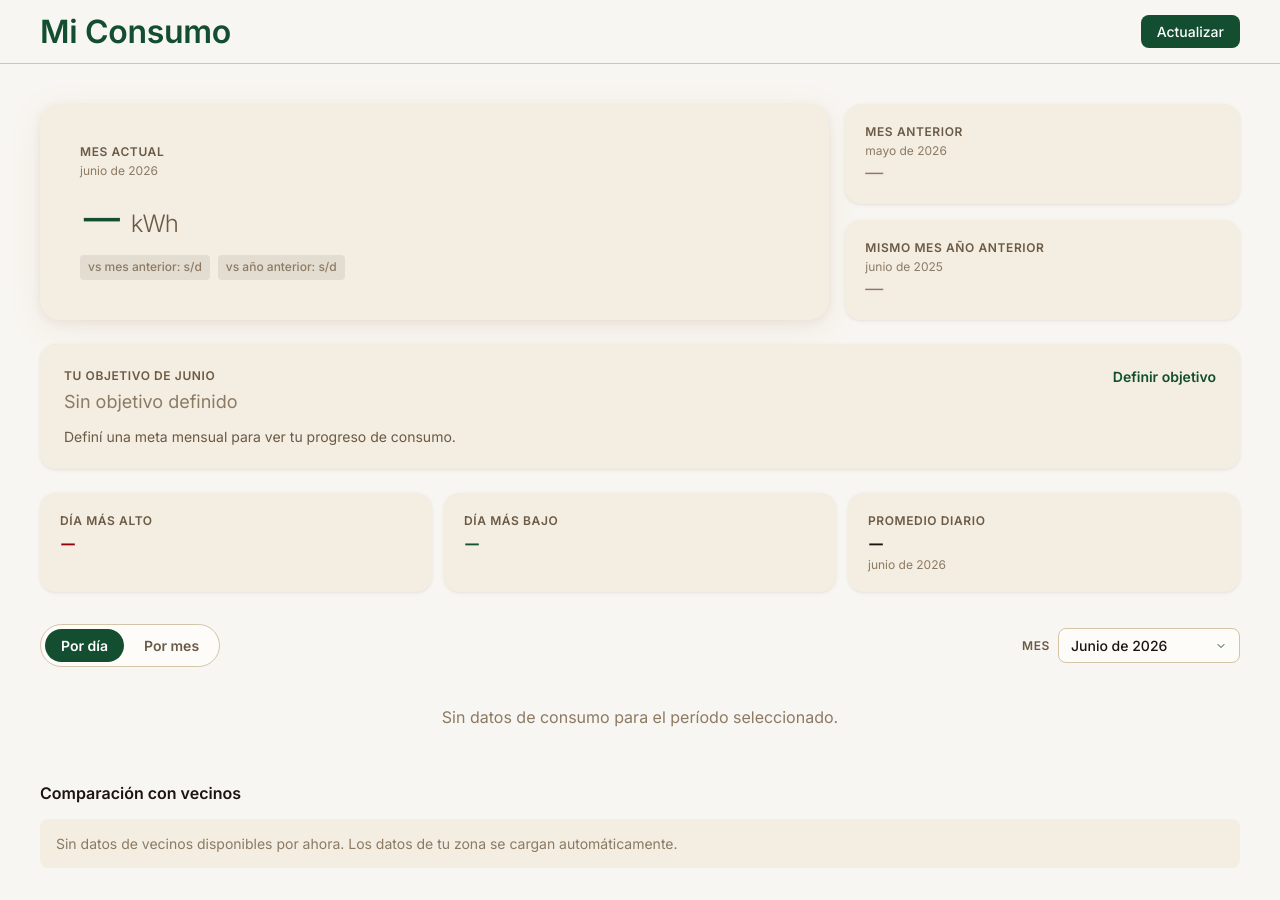
ConsumoPage — card de total del mes filtrado › al filtrar un mes pasado, el título deja de ser 'Mes actual'
expect the text "Mes actual" is shown: met, box [80,144,164,159]
Select "Mayo de 2026" in the dropdown at {"x": 1149, "y": 646}, box [1058,628,1240,663]
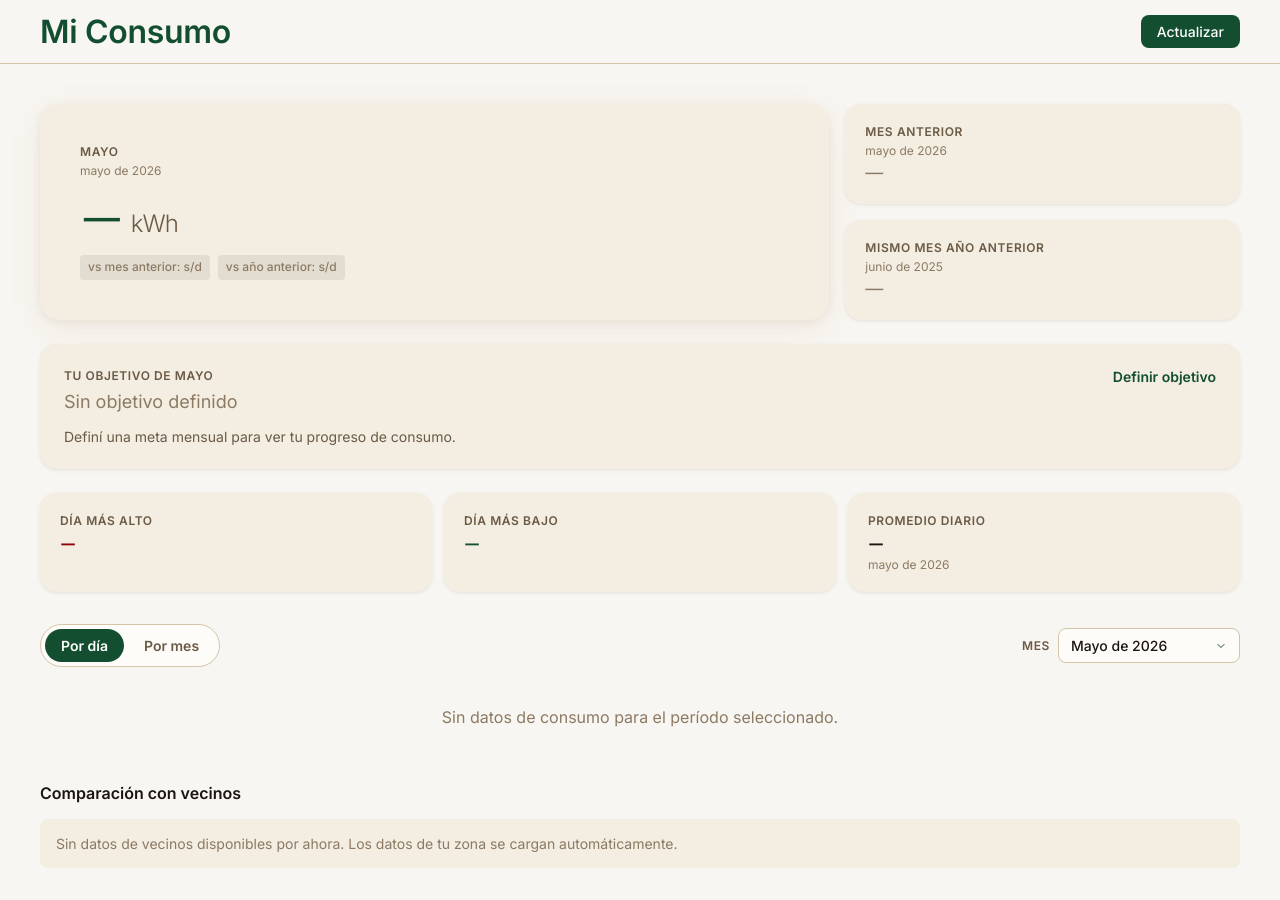
expect the text "Mes actual" is gone: met
